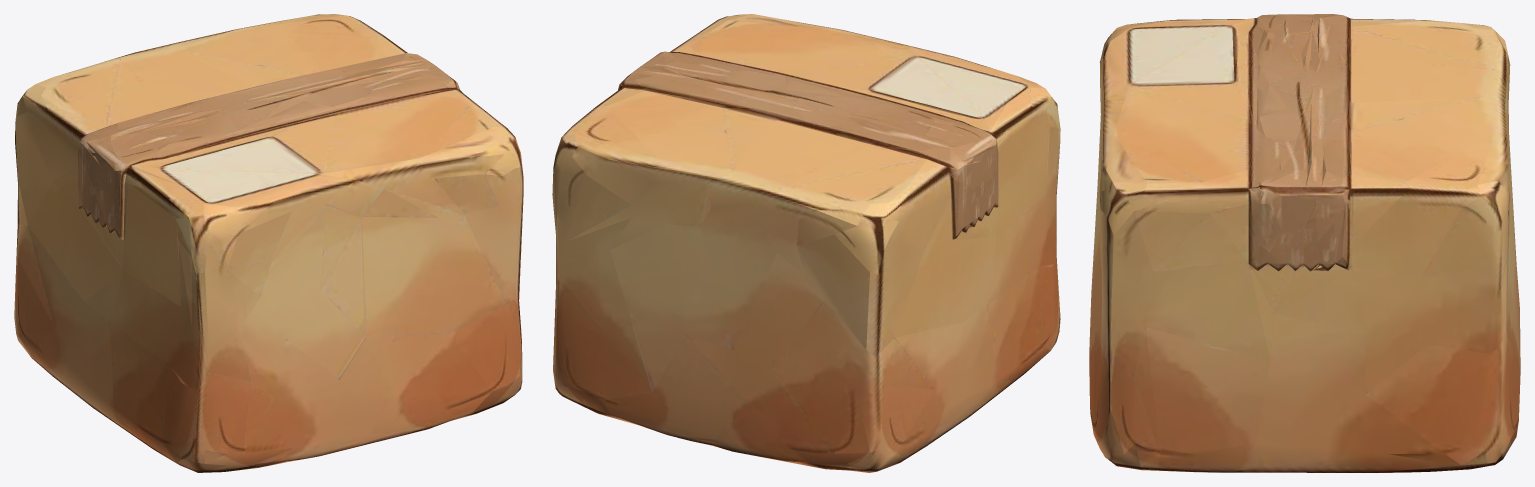
The model's file is parcel.glb.
3 renders of one model, left to right at view 1: azimuth 30°, elevation 25°; view 2: azimuth 150°, elevation 25°; view 3: azimuth 270°, elevation 25°, orthographic. The views are drawn at different scales.
Bounding box in the file's own units: 1.9 × 1.48 × 1.9.
1 material, 1 textured.
